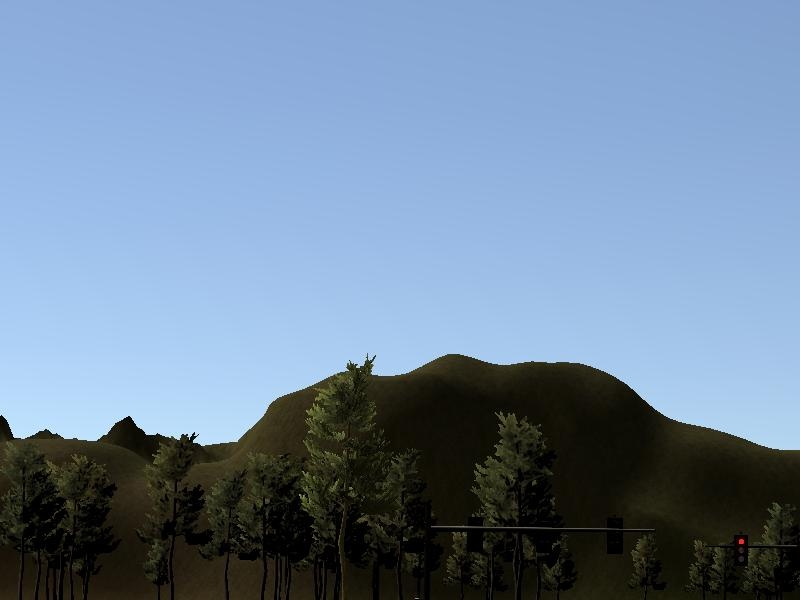RED: (722, 526, 756, 586)
